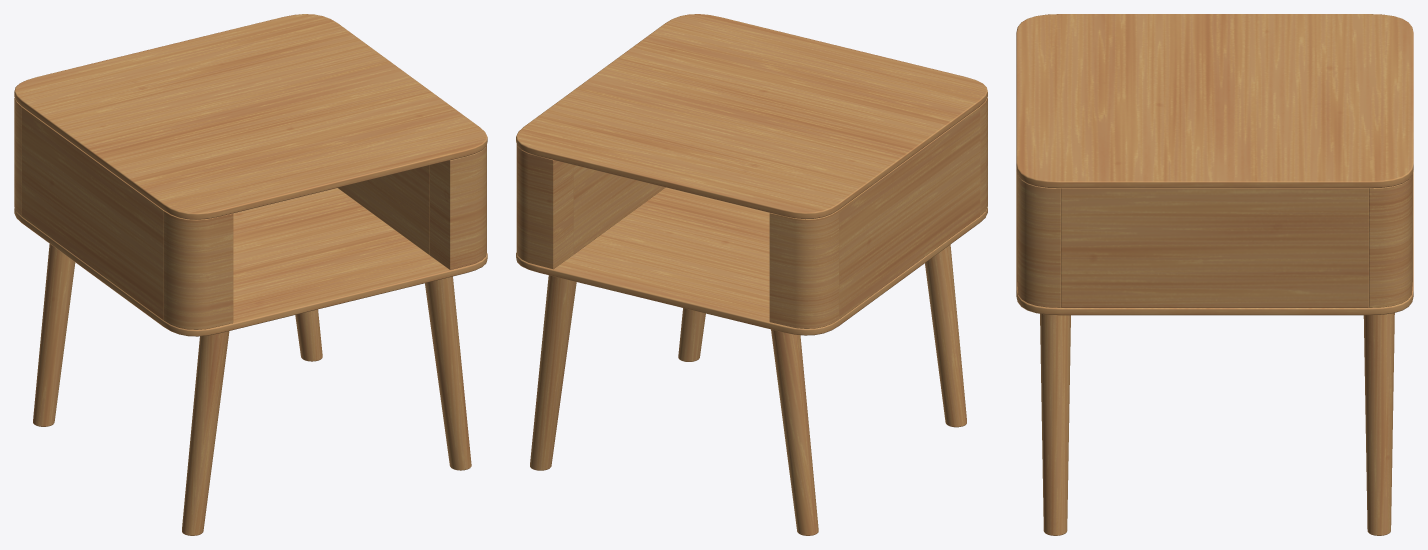
The model's file is nightstand.glb.
The picture shows the model from 3 angles, left to right: view 1: azimuth 30°, elevation 25°; view 2: azimuth 150°, elevation 25°; view 3: azimuth 270°, elevation 25°; orthographic projection. The views are drawn at different scales.
Visible parts, largest first — view 1: nightstand, top; view 2: nightstand, top; view 3: nightstand, top.
Boxes of the visible parts, box(x1,y1,x2,y2) form: nightstand: box(14, 14, 487, 535); top: box(23, 23, 478, 203); nightstand: box(516, 14, 987, 535); top: box(525, 23, 978, 202); nightstand: box(1016, 14, 1413, 535); top: box(1061, 14, 1368, 180).
Size of the model in its own units: 0.4964 by 0.4977 by 0.4964.
Materials: 1 (1 with a texture image).
